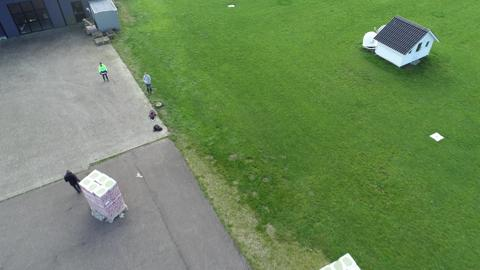RockwoolPallet: (75, 169, 124, 219)
